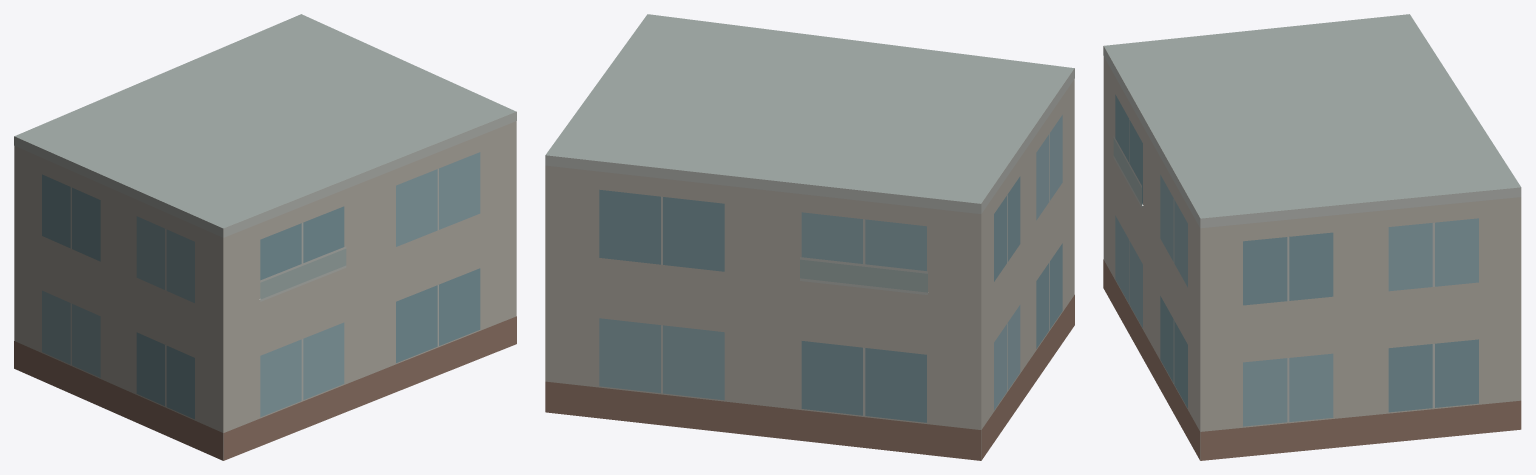
Rendered from survey-upis-32648002.glb.
The picture shows the model from 3 angles, left to right: view 1: azimuth 30°, elevation 25°; view 2: azimuth 150°, elevation 25°; view 3: azimuth 270°, elevation 25°; orthographic projection. The views are drawn at different scales.
Parts seen in each view (by area): view 1: survey-upis-32648002.tmp; view 2: survey-upis-32648002.tmp; view 3: survey-upis-32648002.tmp.
Boxes of the visible parts, box(x1,y1,x2,y2) form: survey-upis-32648002.tmp: box(14, 14, 516, 460); survey-upis-32648002.tmp: box(545, 14, 1074, 460); survey-upis-32648002.tmp: box(1103, 14, 1521, 460).
Size of the model in its own units: 11.06 by 6.1 by 9.55.
